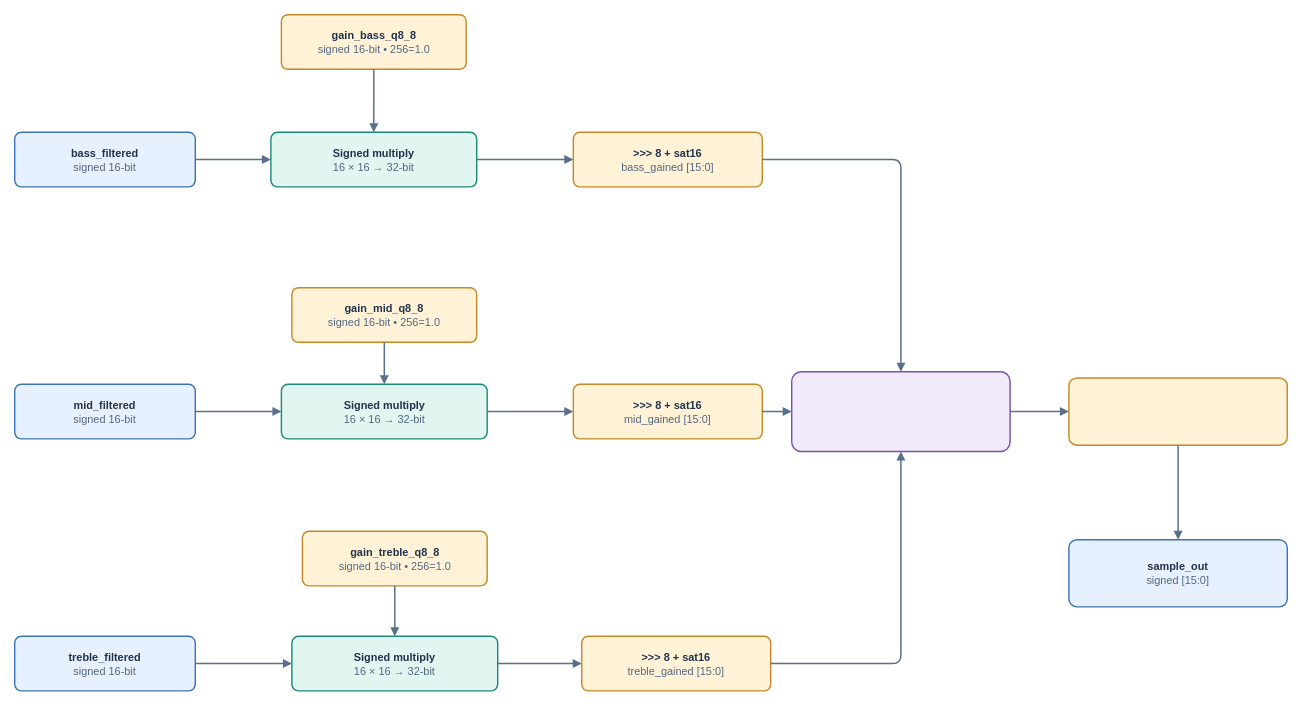
Image size: 1303x706. Some labels were removed from this diagram. The centre of each missing label's shape, as x and y in pixels:
Mixer sign extend 16→18 3-input signed sum: point 900,411
Output saturation 18-bit → signed 16-bit: point 1178,411
